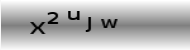2: (46, 11, 59, 25)
J: (84, 16, 92, 33)
X: (28, 21, 46, 35)
u: (67, 10, 80, 20)
w: (100, 18, 119, 28)
